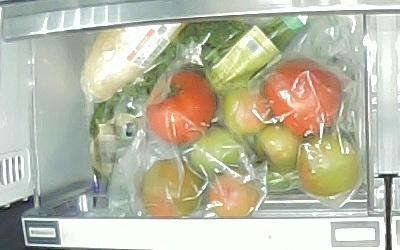tomato_vinyl: (265, 60, 343, 136), (147, 70, 216, 144), (297, 136, 360, 197), (142, 159, 202, 218), (190, 126, 248, 177), (209, 171, 260, 218), (255, 125, 304, 173), (223, 88, 270, 135)
